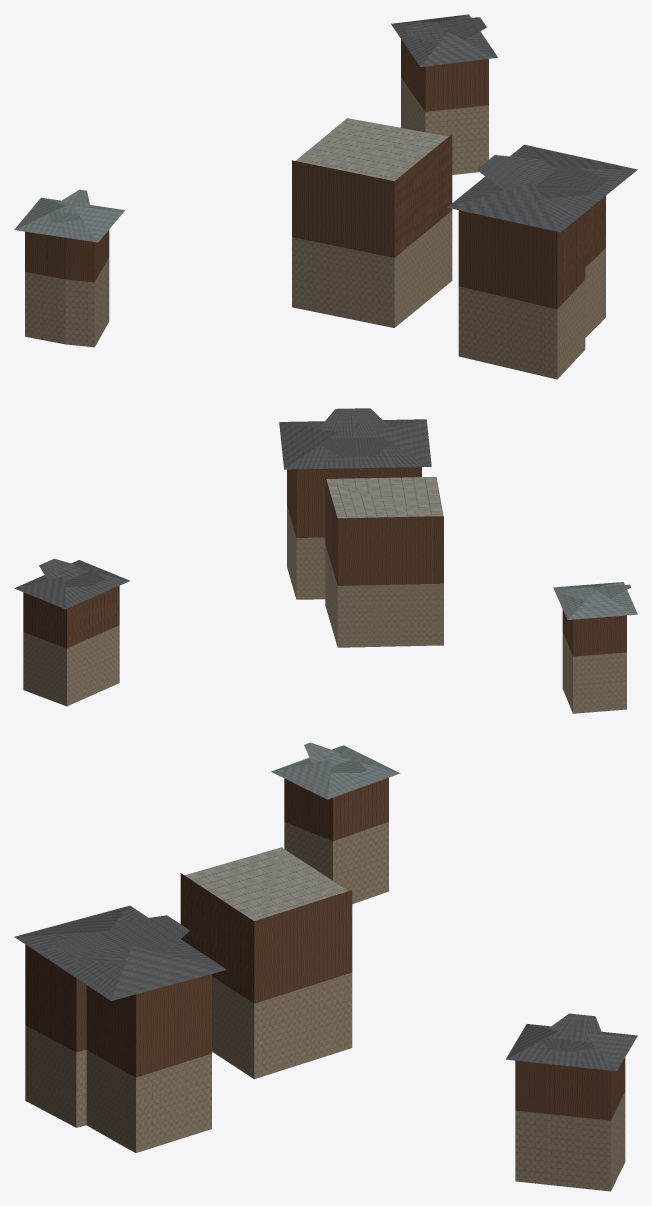
Rendered from bld_c21_45_390.gltf.
3 renders of one model, top to bottom at view 1: azimuth 30°, elevation 25°; view 2: azimuth 150°, elevation 25°; view 3: azimuth 270°, elevation 25°, orthographic. The views are drawn at different scales.
Parts seen in each view (by area): view 1: bld_c21_45_390; view 2: bld_c21_45_390; view 3: bld_c21_45_390.
Boxes of the visible parts, x1=… form: bld_c21_45_390: x1=14, y1=14, x2=637, y2=379; bld_c21_45_390: x1=14, y1=408, x2=637, y2=713; bld_c21_45_390: x1=14, y1=742, x2=637, y2=1191.
Bounding box in the file's own units: 44.25 × 12.18 × 38.21.
Materials: 6 (6 with a texture image).
